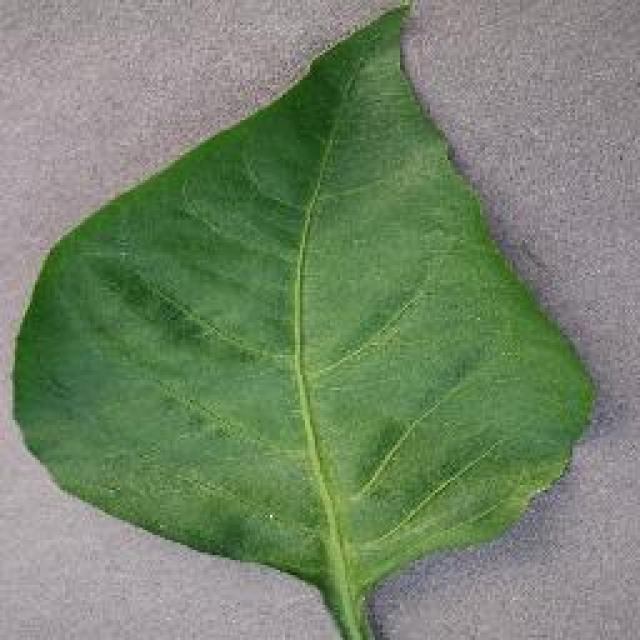Leaf: (26, 25, 604, 600)
